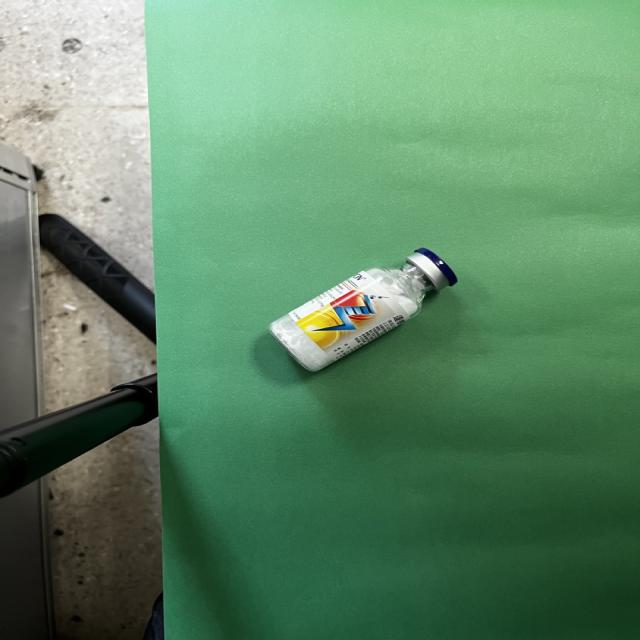Vials: (271, 248, 456, 372)
